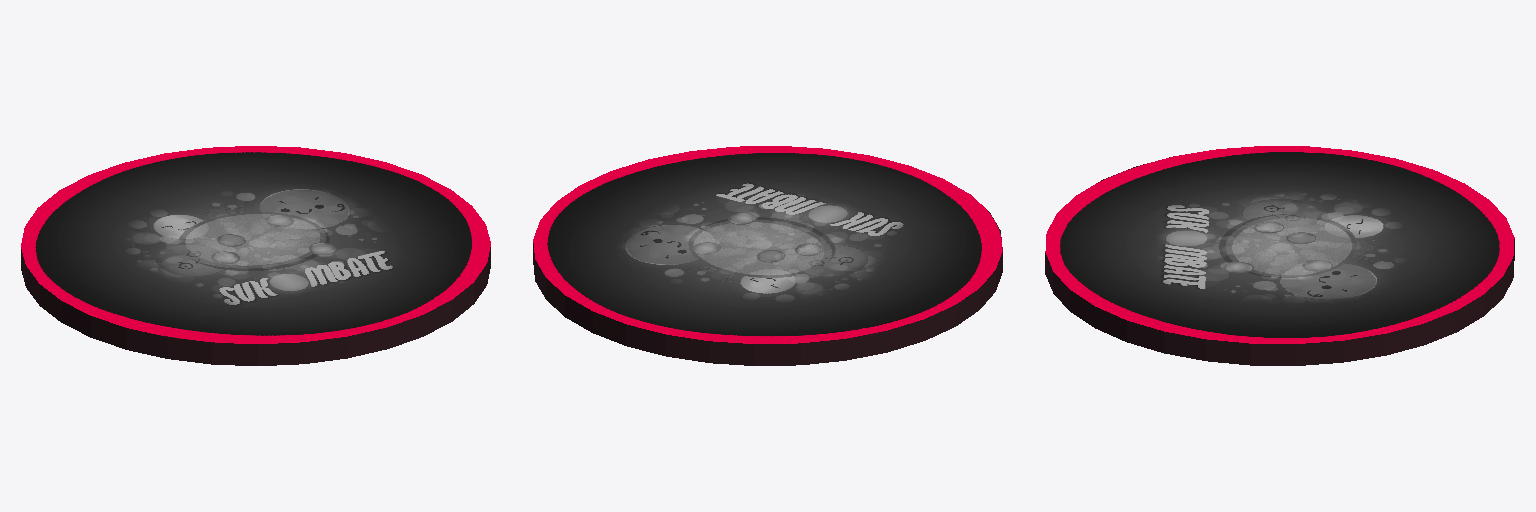
3 renders of one model, left to right at view 1: azimuth 30°, elevation 25°; view 2: azimuth 150°, elevation 25°; view 3: azimuth 270°, elevation 25°, orthographic.
Parts seen in each view (by area): view 1: Cylinder; view 2: Cylinder; view 3: Cylinder.
Boxes of the visible parts, x1=… form: Cylinder: x1=21, y1=146, x2=490, y2=365; Cylinder: x1=533, y1=146, x2=1002, y2=365; Cylinder: x1=1045, y1=146, x2=1514, y2=365.
Bounding box in the file's own units: 15.82 × 0.8171 × 15.82.
1 materials, 1 textured.